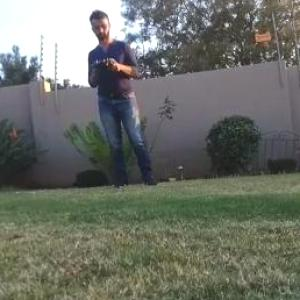follow: (83, 0, 166, 194)
